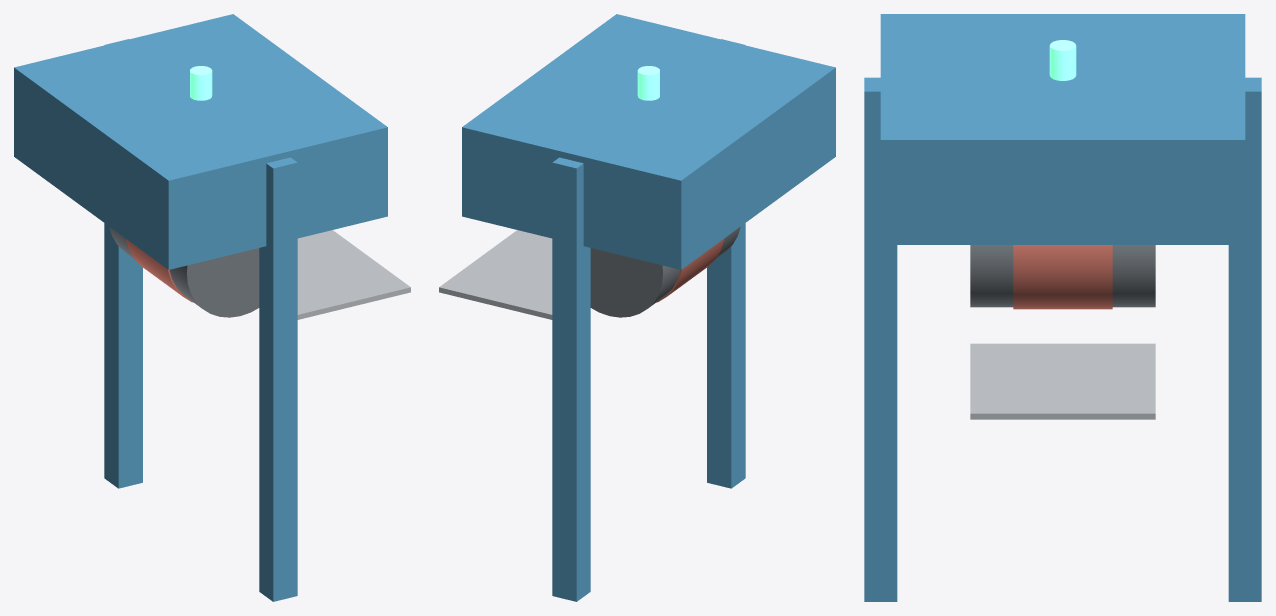
File: separador_aluminio.glb
3 renders of one model, left to right at view 1: azimuth 30°, elevation 25°; view 2: azimuth 150°, elevation 25°; view 3: azimuth 270°, elevation 25°, orthographic. The views are drawn at different scales.
Visible parts, largest first — view 1: carcasa, poste_der, poste_izq, divisor, tambor_magnetico, aspas_tambor, luz_estado; view 2: carcasa, poste_izq, poste_der, divisor, tambor_magnetico, aspas_tambor, luz_estado; view 3: carcasa, poste_izq, poste_der, divisor, aspas_tambor, tambor_magnetico, luz_estado.
Boxes of the visible parts, box(x1,y1,x2,y2) form: carcasa: box(14, 14, 387, 269); poste_der: box(259, 157, 297, 601); poste_izq: box(104, 39, 142, 488); divisor: box(297, 230, 410, 319); tambor_magnetico: box(109, 226, 259, 317); aspas_tambor: box(126, 239, 193, 302); luz_estado: box(190, 66, 212, 100); carcasa: box(462, 14, 835, 269); poste_izq: box(552, 157, 590, 601); poste_der: box(707, 39, 745, 488); divisor: box(439, 230, 552, 319); tambor_magnetico: box(590, 226, 740, 317); aspas_tambor: box(656, 239, 723, 302); luz_estado: box(637, 66, 659, 100); carcasa: box(880, 14, 1245, 244); poste_izq: box(1228, 77, 1261, 601); poste_der: box(864, 77, 897, 601); divisor: box(970, 343, 1155, 419); aspas_tambor: box(1013, 245, 1112, 309); tambor_magnetico: box(970, 245, 1155, 307); luz_estado: box(1049, 40, 1076, 80).
Bounding box in the file's own units: 1.15 × 1.83 × 1.2.
